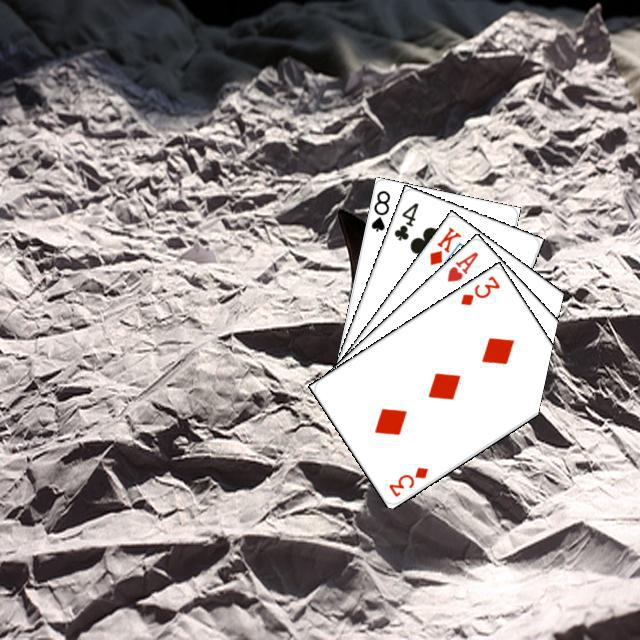3d: (383, 462, 430, 499), (455, 271, 502, 307)
4c: (389, 198, 420, 243)
8s: (366, 185, 392, 233)
Ah: (442, 246, 480, 284)
Kd: (424, 222, 463, 267)
